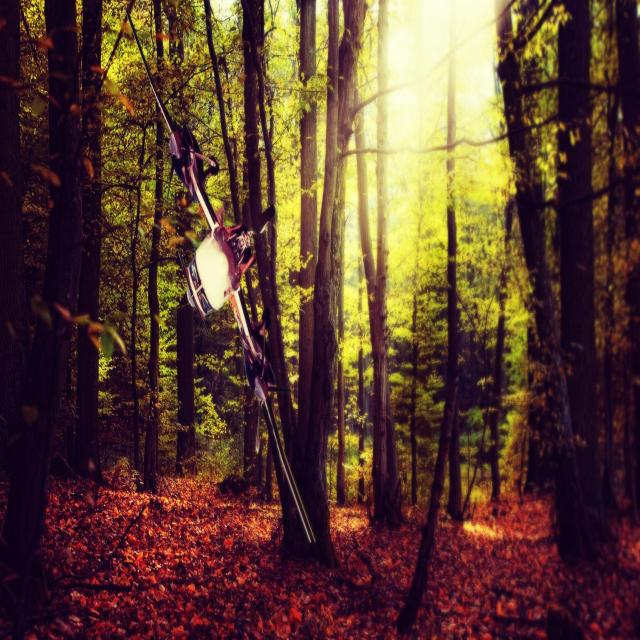airplane: (118, 4, 317, 551)
